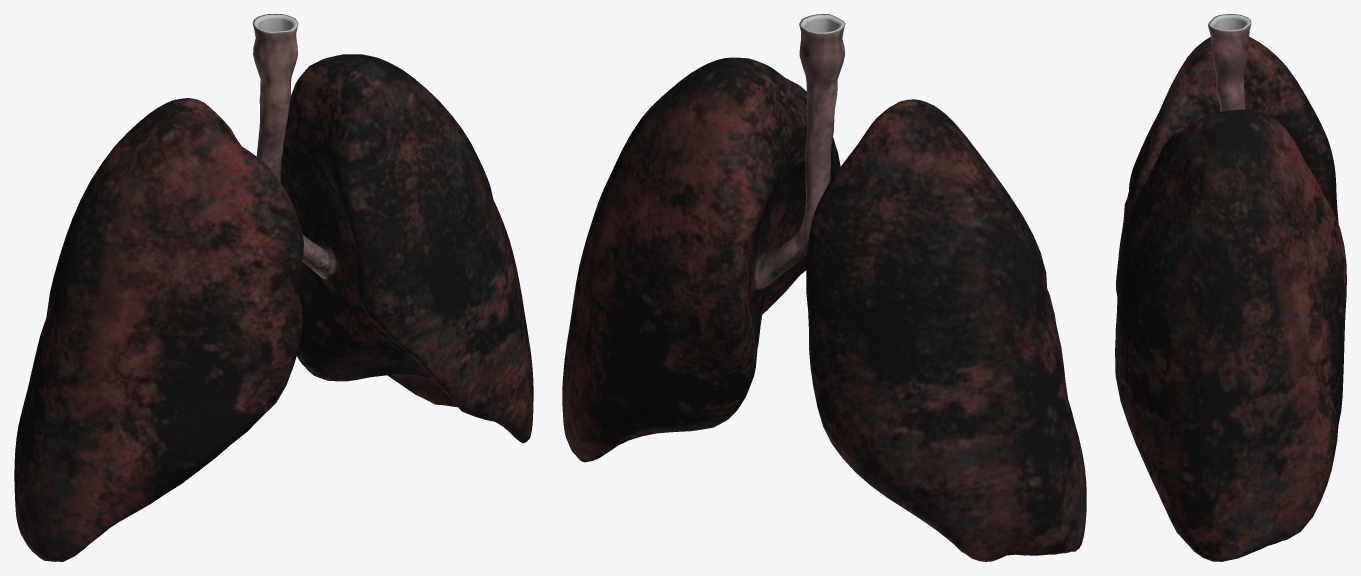
Rendered from lungSick.glb.
3 views of the same model, side by side, from view 1: azimuth 30°, elevation 25°; view 2: azimuth 150°, elevation 25°; view 3: azimuth 270°, elevation 25° (orthographic). The views are drawn at different scales.
Visible parts, largest first — view 1: LungSick; view 2: LungSick; view 3: LungSick.
Part boxes in pixels (x1,y1,x2,y2): LungSick: (14, 14, 533, 561); LungSick: (562, 14, 1086, 561); LungSick: (1115, 14, 1346, 561).
Size of the model in its own units: 0.2001 by 0.1804 by 0.0875.
1 material, 1 textured.
